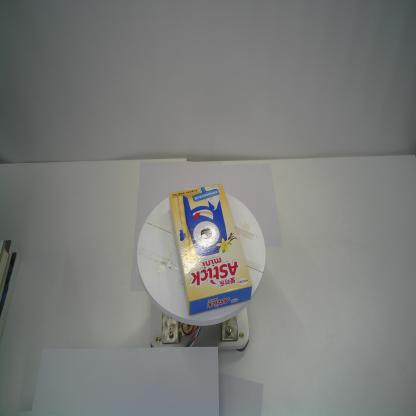Dessert: (168, 182, 253, 316)
